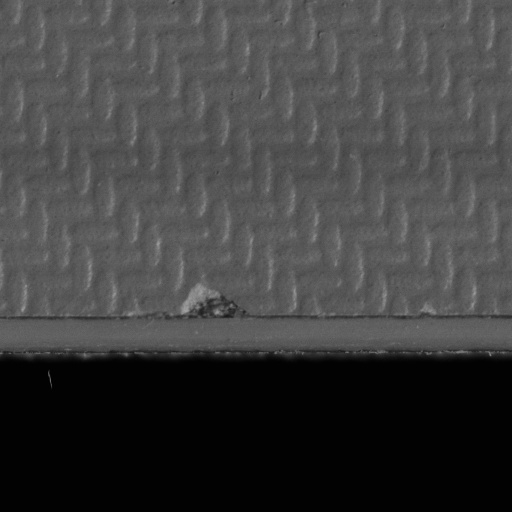bengque: (182, 283, 253, 321)
